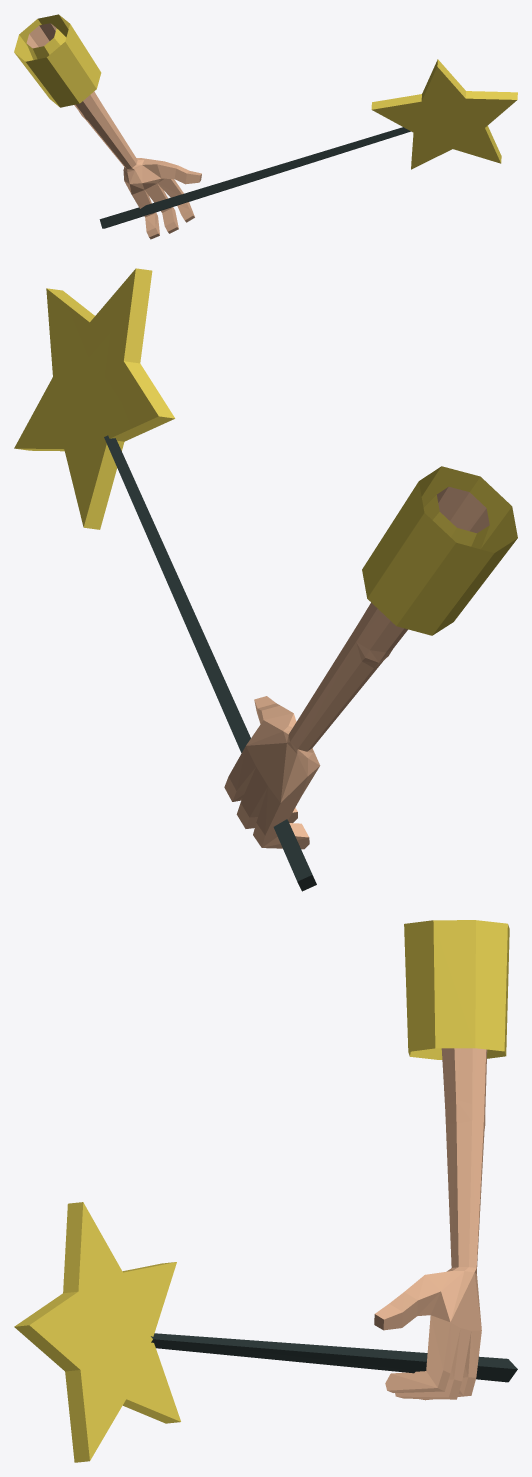
Rendered from wandaBarita.obj.
3 renders of one model, top to bottom at view 1: azimuth 30°, elevation 25°; view 2: azimuth 150°, elevation 25°; view 3: azimuth 270°, elevation 25°, orthographic. The views are drawn at different scales.
Parts seen in each view (by area): view 1: polySurface27; view 2: polySurface27; view 3: polySurface27.
Boxes of the visible parts, x1=… form: polySurface27: x1=14, y1=14, x2=517, y2=239; polySurface27: x1=14, y1=268, x2=517, y2=891; polySurface27: x1=14, y1=920, x2=517, y2=1462.
Bounding box in the file's own units: 0.492 × 0.2917 × 0.3214.
1 material, 1 textured.
